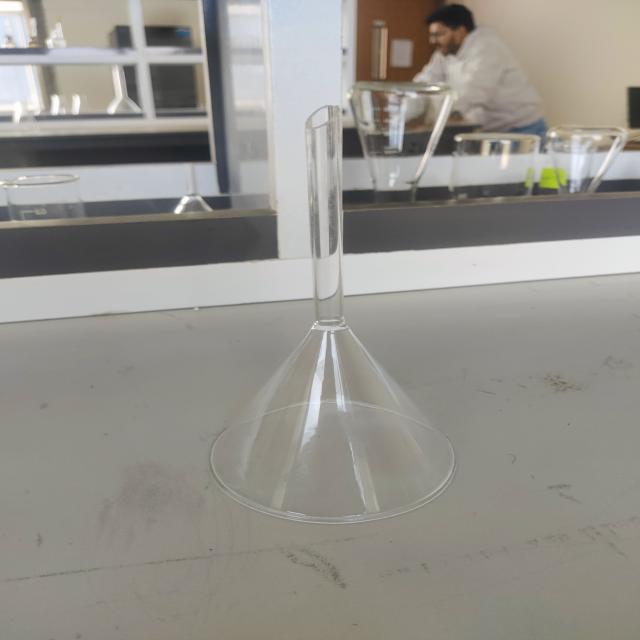Funnel: (182, 84, 497, 562)
